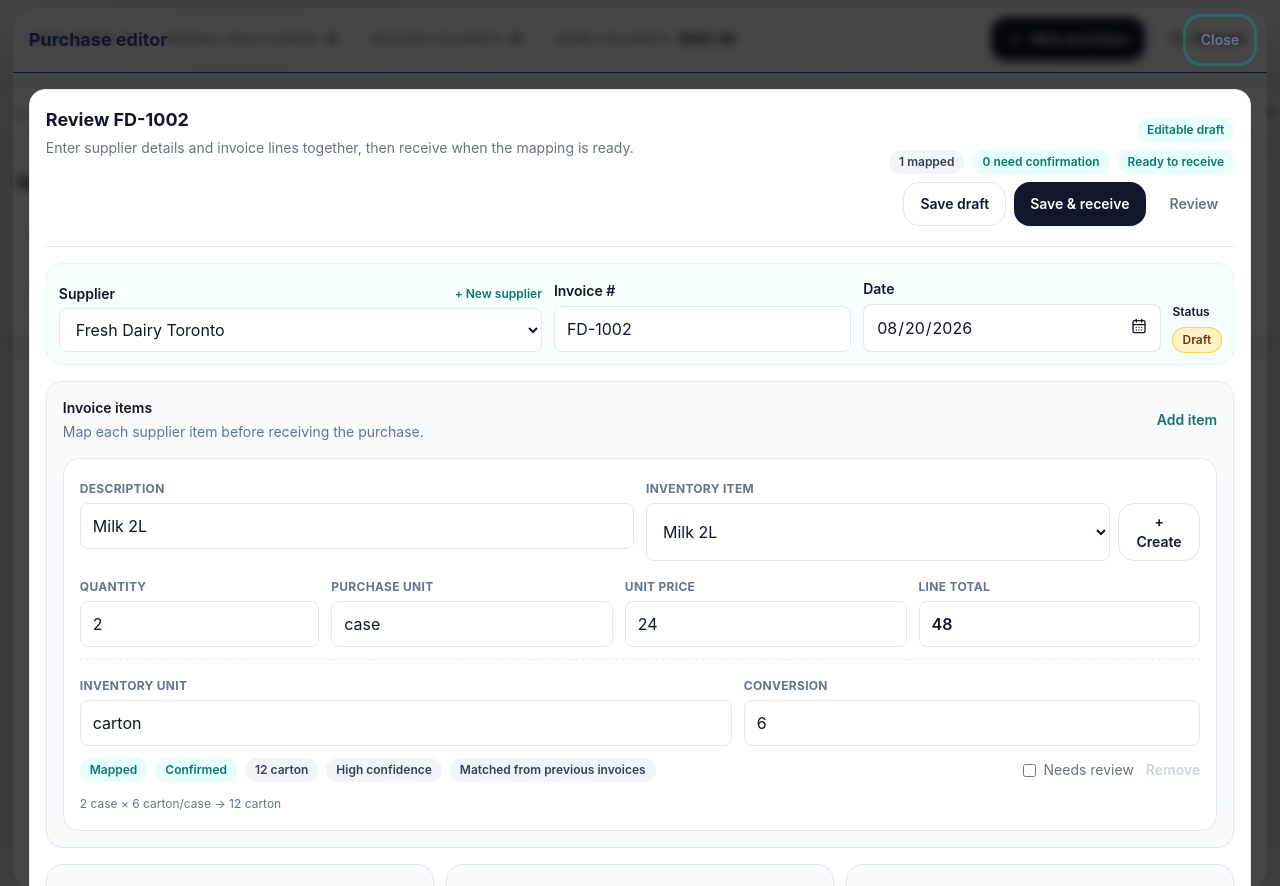
PilotPurchasesPage › opens an explicit draft invoiceId in the editable purchase editor
The image size is (1280, 886).
Expected: the heading "Review FD-1002" is shown, [46,109,189,130]
Click the button "Review": (1194, 204) [1154,182,1234,226]
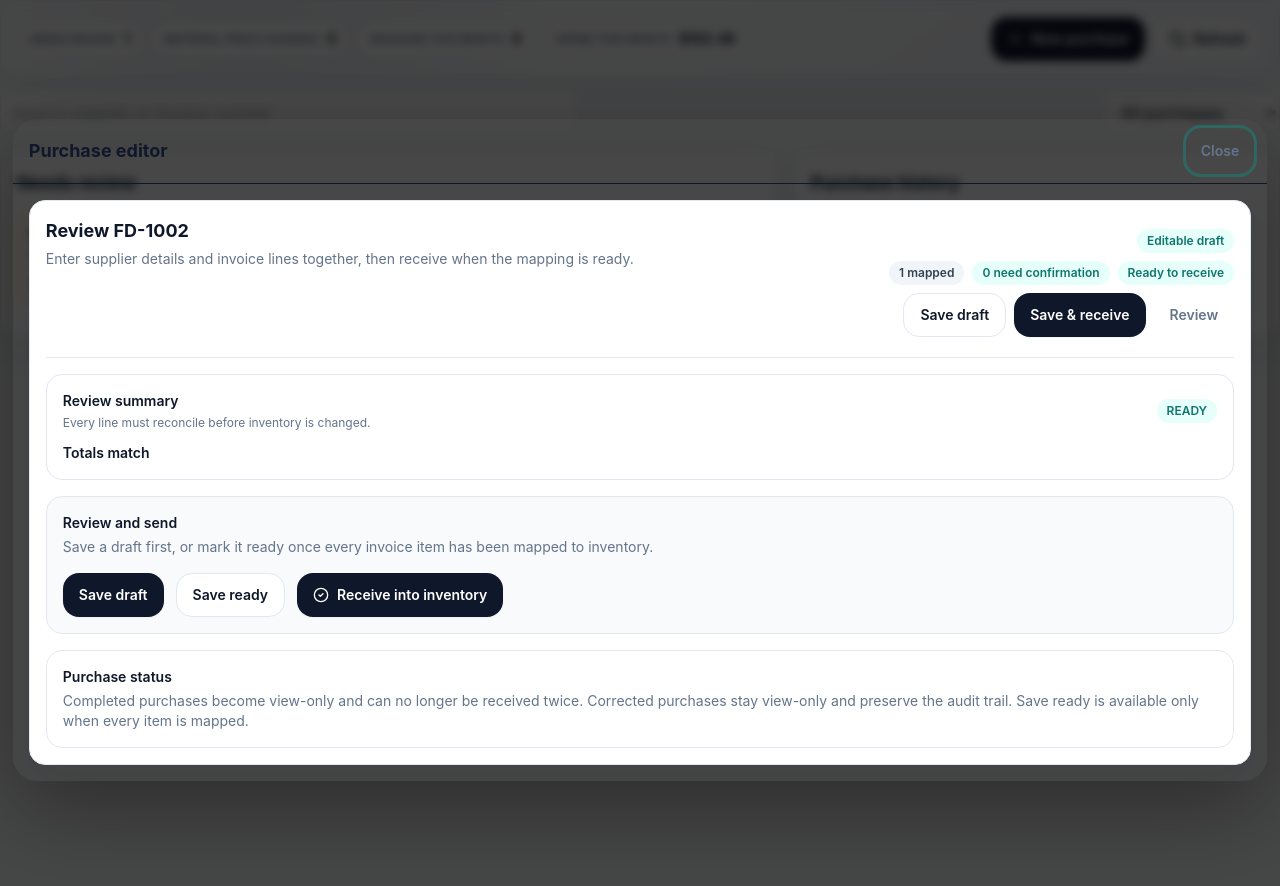
Expected: the element with test id "purchase-review-panel" is shown, [46,374,1234,748]
Expected: the number of buttons "Save draft" is 2, [903,293,1006,337]; [63,573,164,617]
Expected: the button "Receive into inventory" is shown, [297,573,503,617]
